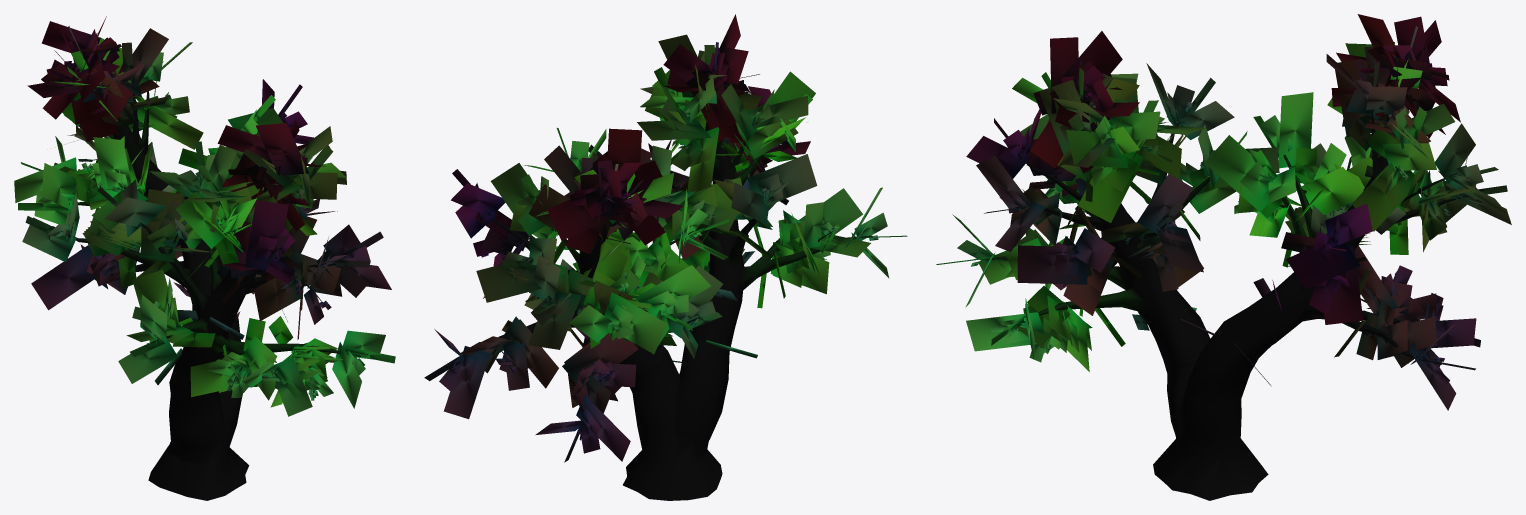
Rendered from Tree_CherryDual.FBX.
3 views of the same model, side by side, from view 1: azimuth 30°, elevation 25°; view 2: azimuth 150°, elevation 25°; view 3: azimuth 270°, elevation 25° (orthographic). The views are drawn at different scales.
Parts seen in each view (by area): view 1: Tree_0; view 2: Tree_0; view 3: Tree_0.
Part boxes in pixels (x1,y1,x2,y2): Tree_0: (14,16,395,500); Tree_0: (424,14,907,500); Tree_0: (936,14,1511,500).
Size of the model in its own units: 157 by 189 by 220.
